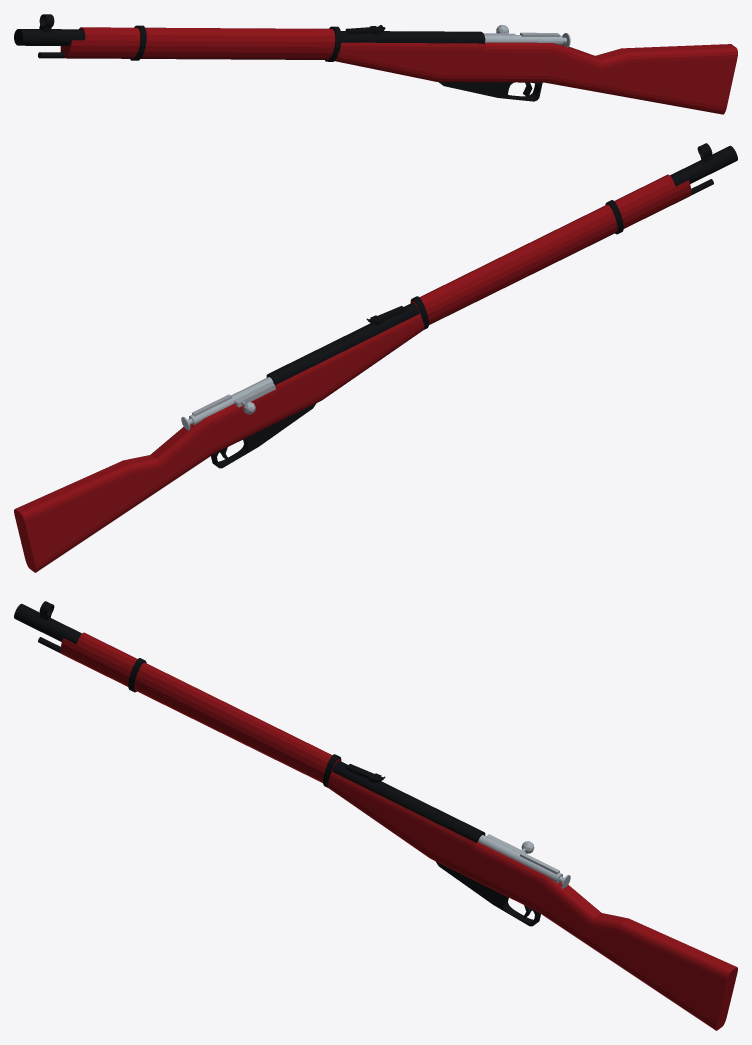
File: mosin-nagant0006.obj
3 renders of one model, top to bottom at view 1: azimuth 30°, elevation 25°; view 2: azimuth 210°, elevation 25°; view 3: azimuth 330°, elevation 25°, orthographic.
Parts seen in each view (by area): view 1: stock, barrel, triggerGuard, bolt, cleaningRod, stockBand, stockBandRear, grooveBar; view 2: stock, barrel, triggerGuard; view 3: stock, barrel, triggerGuard, bolt.
Boxes of the visible parts, bbox=[...] form: stock: bbox=[60, 27, 737, 114]; barrel: bbox=[14, 29, 485, 45]; triggerGuard: bbox=[438, 82, 542, 101]; bolt: bbox=[484, 34, 562, 45]; cleaningRod: bbox=[38, 52, 326, 59]; stockBand: bbox=[130, 25, 146, 60]; stockBandRear: bbox=[325, 26, 341, 61]; grooveBar: bbox=[345, 25, 385, 34]; stock: bbox=[14, 174, 691, 572]; barrel: bbox=[266, 145, 737, 385]; triggerGuard: bbox=[211, 403, 316, 468]; stock: bbox=[60, 632, 737, 1030]; barrel: bbox=[14, 603, 485, 843]; triggerGuard: bbox=[435, 861, 540, 926]; bolt: bbox=[478, 835, 562, 883].
Size of the model in its own units: 15.89 by 5.56 by 0.818.
